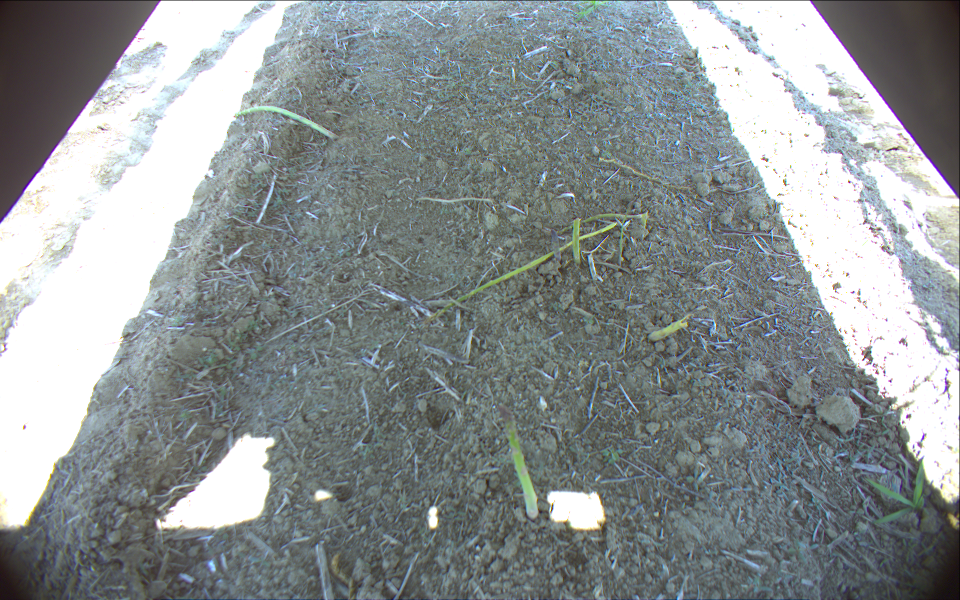aspa: (429, 222, 621, 317), (495, 406, 541, 521), (229, 104, 340, 140), (560, 211, 655, 234), (648, 317, 691, 340), (571, 217, 581, 267), (549, 230, 562, 264)
